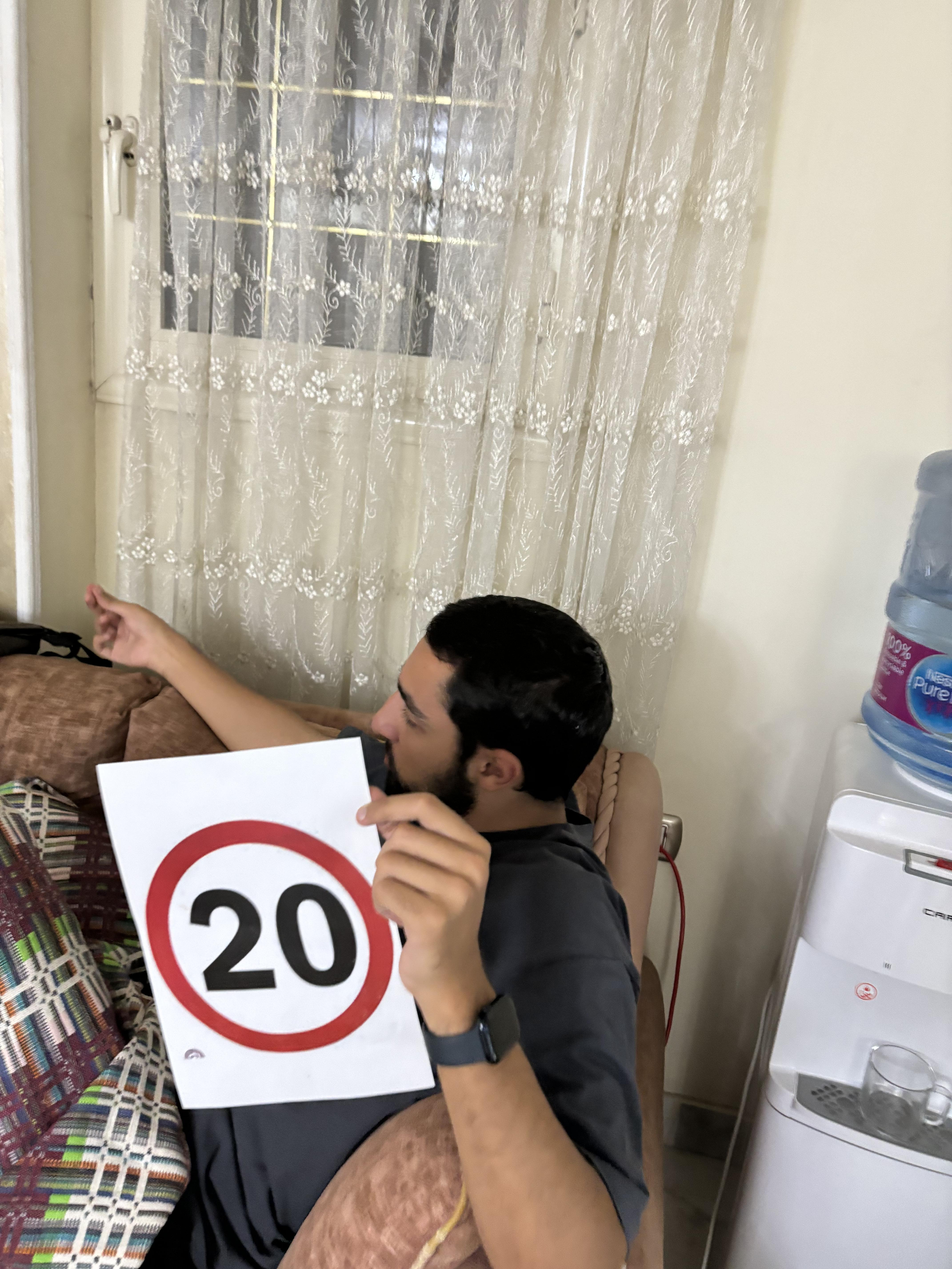20-Speed: (136, 811, 397, 1050)
